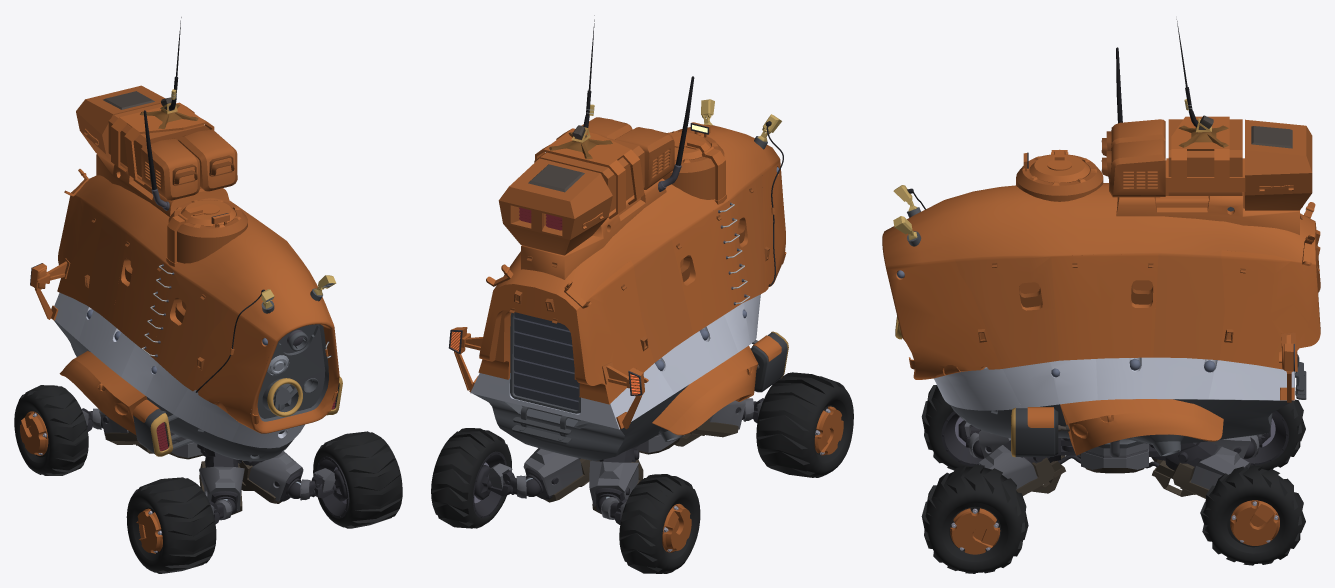
File: truckMod.glb
The picture shows the model from 3 angles, left to right: view 1: azimuth 30°, elevation 25°; view 2: azimuth 150°, elevation 25°; view 3: azimuth 270°, elevation 25°; orthographic projection. The views are drawn at different scales.
Visible parts, largest first — view 1: Cube_Org_0, Cube_Org.001_0, Cylinder.084, Cube.026, 1_wheel_0, Cube.001_Wht_0, Cube.001_Wht.001_0, Cube.002_Org_0, Cube.014, Plane.031, Cube.018, Cylinder.001 (+18 smaller); view 2: Cube_Org_0, Cube_Org.001_0, 1_wheel_0, Cylinder.084, Cube.006, Cube.001_Wht_0, Cube.029, Cube.022, Cube.002_Org_0, Plane.039, Cube.003_Org_0, Cube.018 (+18 smaller); view 3: Cube_Org_0, Cube_Org.001_0, Cylinder.084, 1_wheel_0, Cube.001_Wht_0, Cube.001_Wht.001_0, Cube.002_Org_0, Cube.006, Cube.026, Cube.022, Cube.003_Org_0, Cube.018 (+20 smaller).
Boxes of the visible parts, box(x1,y1,x2,y2) form: Cube_Org_0: box(71, 175, 339, 433); Cube_Org.001_0: box(57, 192, 275, 430); Cylinder.084: box(126, 431, 402, 573); Cube.026: box(141, 129, 237, 200); 1_wheel_0: box(14, 385, 88, 475); Cube.001_Wht_0: box(79, 307, 304, 448); Cube.001_Wht.001_0: box(54, 292, 239, 441); Cube.002_Org_0: box(59, 351, 147, 434); Cube.014: box(257, 324, 328, 421); Plane.031: box(199, 451, 303, 511); Cube.018: box(111, 102, 214, 184); Cylinder.001: box(168, 199, 247, 263); Cube_Org_0: box(489, 125, 785, 379); Cube_Org.001_0: box(478, 159, 785, 404); 1_wheel_0: box(431, 428, 700, 573); Cylinder.084: box(756, 372, 853, 477); Cube.006: box(498, 158, 612, 255); Cube.001_Wht_0: box(470, 296, 758, 429); Cube.029: box(514, 312, 580, 413); Cube.022: box(473, 385, 688, 461); Cube.002_Org_0: box(652, 345, 758, 435); Plane.039: box(523, 448, 638, 506); Cube.003_Org_0: box(521, 179, 666, 279); Cube.018: box(535, 128, 644, 218); Cube_Org_0: box(882, 183, 1320, 379); Cube_Org.001_0: box(886, 222, 1320, 379); Cylinder.084: box(921, 385, 1028, 573); 1_wheel_0: box(1200, 399, 1305, 565); Cube.001_Wht_0: box(934, 357, 1294, 409); Cube.001_Wht.001_0: box(945, 359, 1294, 410); Cube.002_Org_0: box(1060, 399, 1223, 455); Cube.006: box(1245, 119, 1312, 210); Cube.026: box(1109, 119, 1165, 197); Cube.022: box(950, 399, 1293, 444); Cube.003_Org_0: box(1116, 192, 1299, 234); Cube.018: box(1166, 116, 1245, 191).
Size of the model in its own units: 218 by 395 by 311.
